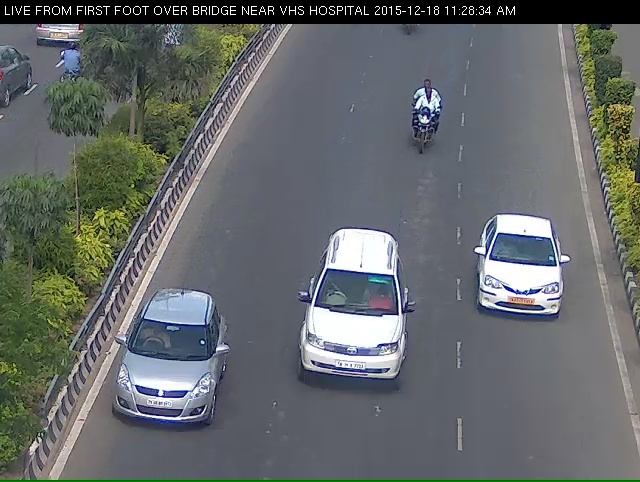Car: (291, 243, 408, 417), (115, 300, 228, 459), (469, 212, 571, 332)
Person: (406, 84, 447, 158)
